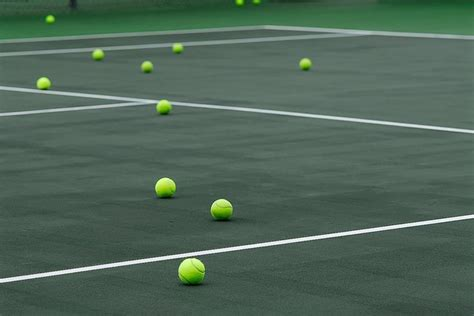tennis_ball: (177, 257, 205, 286), (210, 198, 233, 221), (154, 177, 176, 198), (156, 99, 172, 115), (36, 75, 50, 90), (140, 60, 154, 74), (299, 57, 312, 71), (91, 49, 104, 60), (172, 42, 183, 54), (45, 14, 55, 25)
